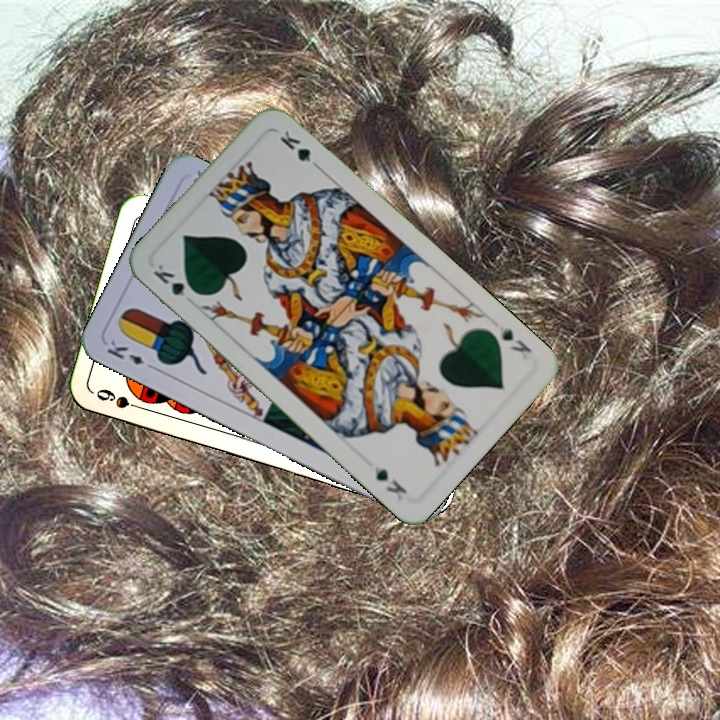EK: (102, 335, 159, 373)
GK: (149, 260, 202, 299), (495, 322, 534, 356)
S9: (91, 384, 149, 414)
